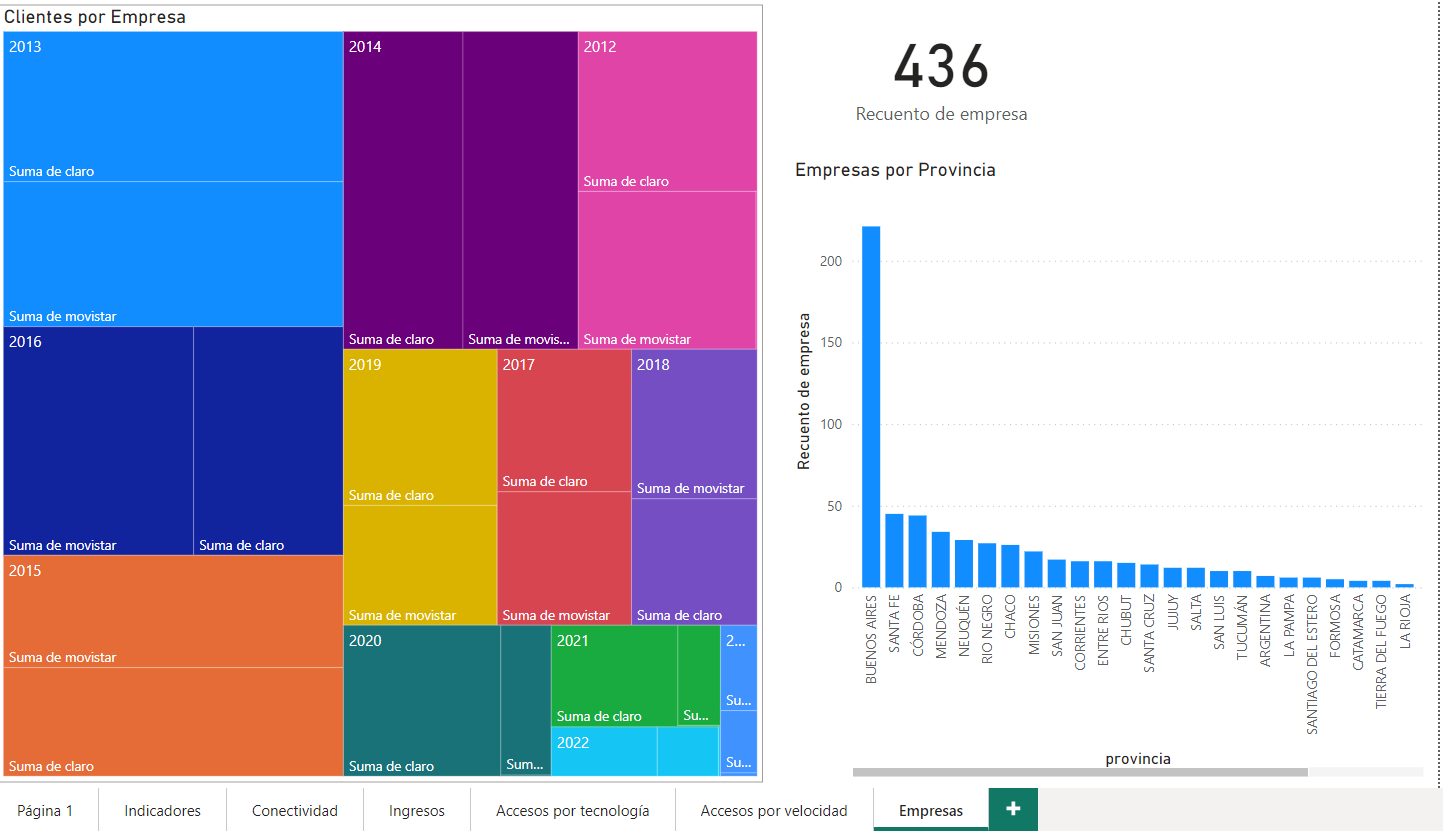

The page's visual inventory and layout, read from the dashboard file:
{"tool":"powerbi","page":{"name":"Empresas","canvas":[1280,720],"ordinal":5},"visuals":[{"type":"treemap","title":"Clientes por Empresa","fields":{"Values":["Sum(telecomunicaciones_arg internet_portabilidad_in.movistar)","Sum(telecomunicaciones_arg internet_portabilidad_in.nextel)","Sum(telecomunicaciones_arg internet_portabilidad_in.claro)","Sum(telecomunicaciones_arg internet_portabilidad_in.otros)"],"Group":["telecomunicaciones_arg internet_portabilidad.año"]},"box":[0,11.1,680,691.1],"z":0},{"type":"card","fields":{"Values":["Count(telecomunicaciones_arg internet_empresas.empresa)"]},"box":[690,11.1,297.8,116.7],"z":1},{"type":"clusteredColumnChart","title":"Empresas por Provincia","fields":{"Category":["telecomunicaciones_arg internet_empresas.provincia"],"Y":["Count(telecomunicaciones_arg internet_empresas.empresa)"]},"box":[703.3,147.8,568.9,554.4],"z":2}]}

Visuals, with their boxes in screenshot pixels (x1, y1, x2, y2):
"Clientes por Empresa" treemap: pyautogui.locateOnScreen(0, 31, 729, 772)
card - Count(telecomunicaciones_arg internet_empresas.empresa): pyautogui.locateOnScreen(740, 31, 1059, 156)
"Empresas por Provincia" clusteredColumnChart: pyautogui.locateOnScreen(754, 177, 1364, 772)
